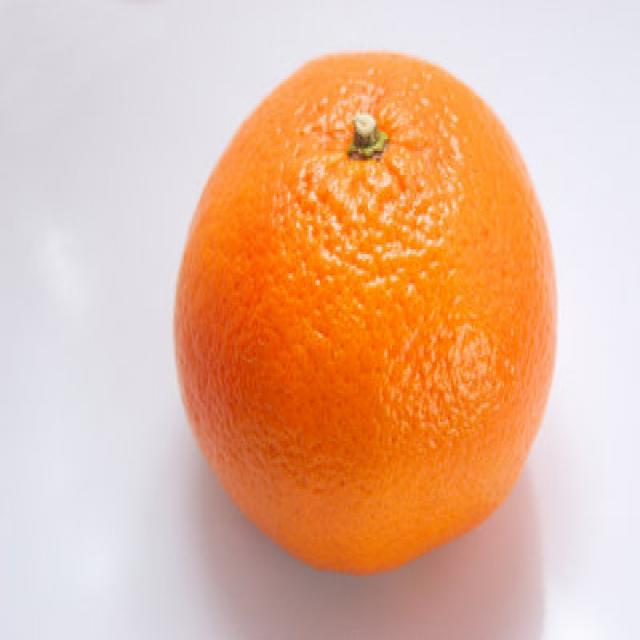Orange: (173, 52, 562, 564)
